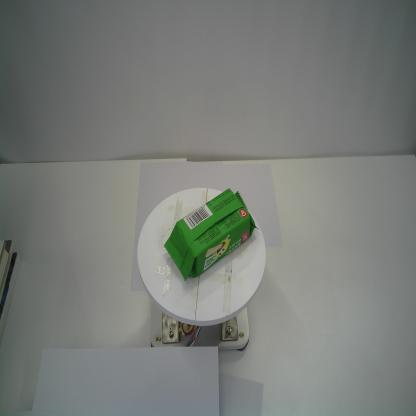Dessert: (163, 186, 260, 283)
